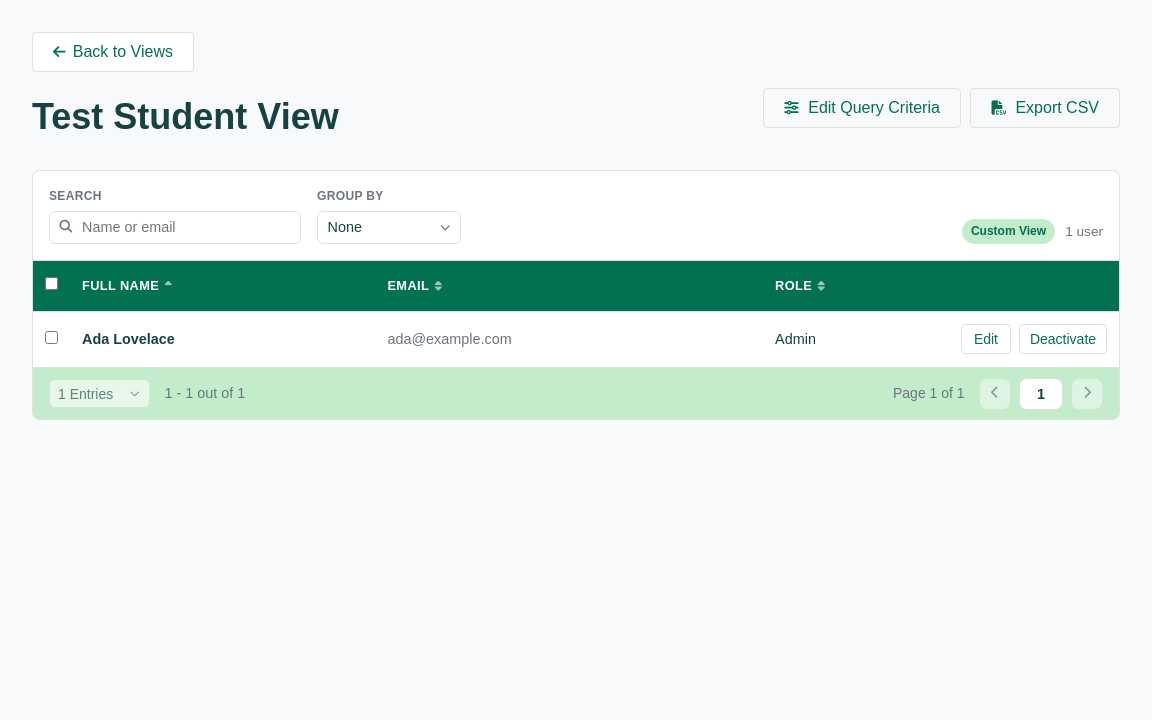
Test: AdminViewExecutedPage › opens the user detail sheet from a name click, with no buttons below
Click the button with class "admin-view-table__name-btn" at (128, 339), box [82,328,175,351]
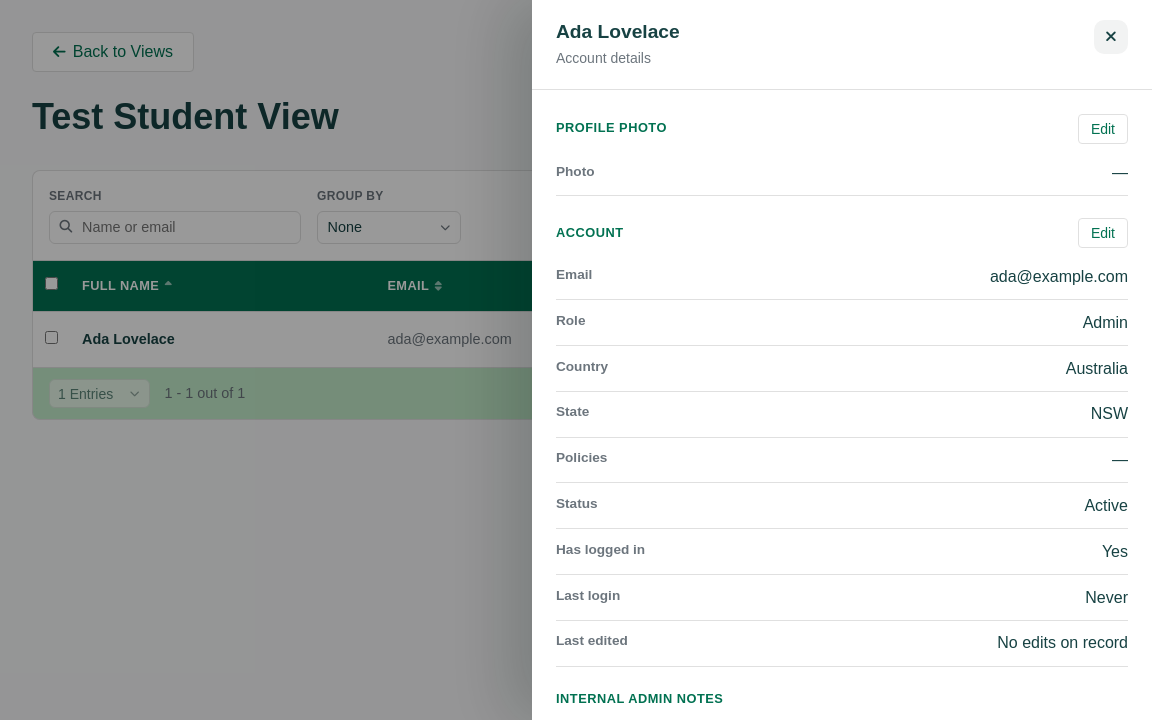
Expected: the dialog is shown
Expected: the dialog shows "ada@example.com", [990,268,1128,285]
